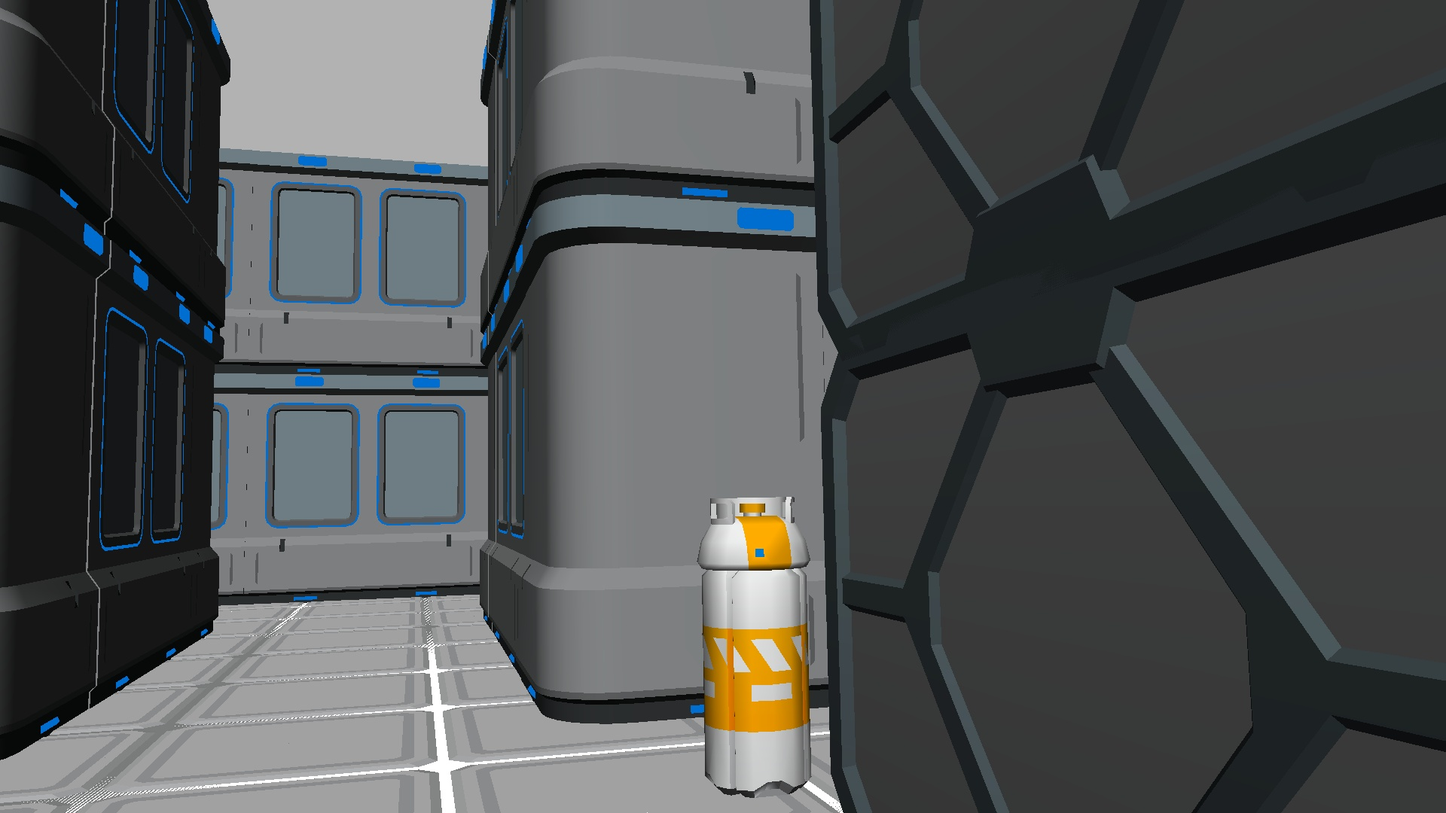yellow barrel: (696, 498, 811, 798)
